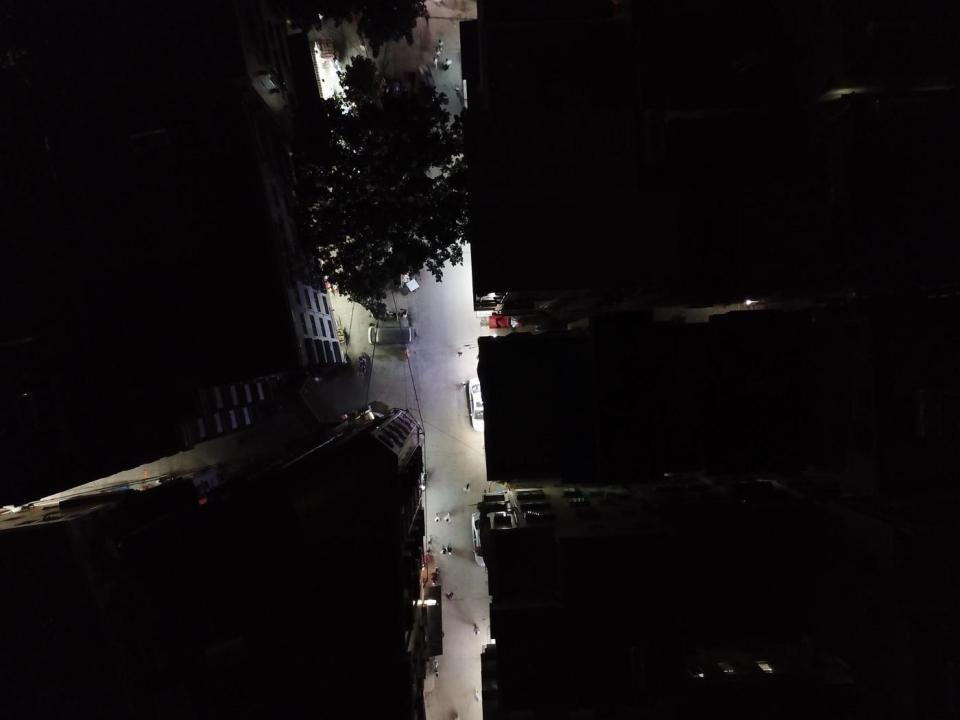car: (471, 511, 496, 566), (468, 377, 492, 432)
van: (367, 324, 415, 346)
